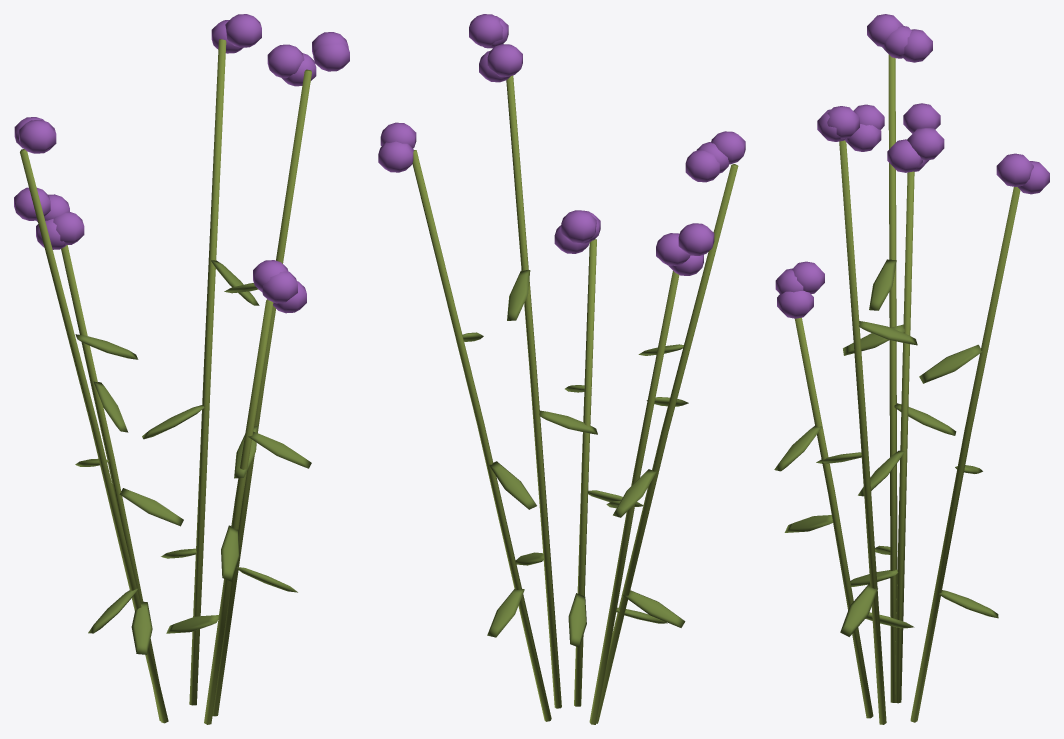
Rendered from weed_thistle.fbx.
3 renders of one model, left to right at view 1: azimuth 30°, elevation 25°; view 2: azimuth 150°, elevation 25°; view 3: azimuth 270°, elevation 25°, orthographic. The views are drawn at different scales.
Parts seen in each view (by area): view 1: weed_thistle; view 2: weed_thistle; view 3: weed_thistle.
Boxes of the visible parts, x1,y1,x2,y2 form: weed_thistle: (14,14,349,724); weed_thistle: (378,14,745,724); weed_thistle: (774,14,1049,724).
Bounding box in the file's own units: 0.5318 × 1.12 × 0.4238.
